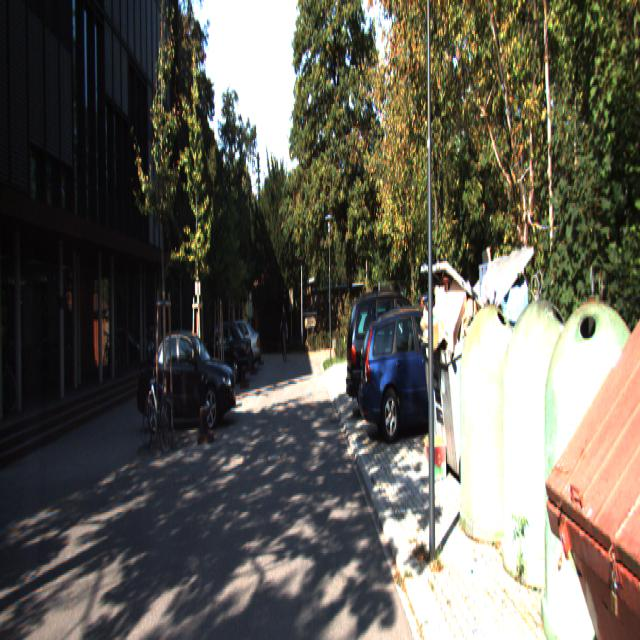Car: (358, 302, 481, 442), (344, 288, 446, 419), (138, 328, 238, 431), (191, 319, 253, 386), (210, 320, 260, 373)
